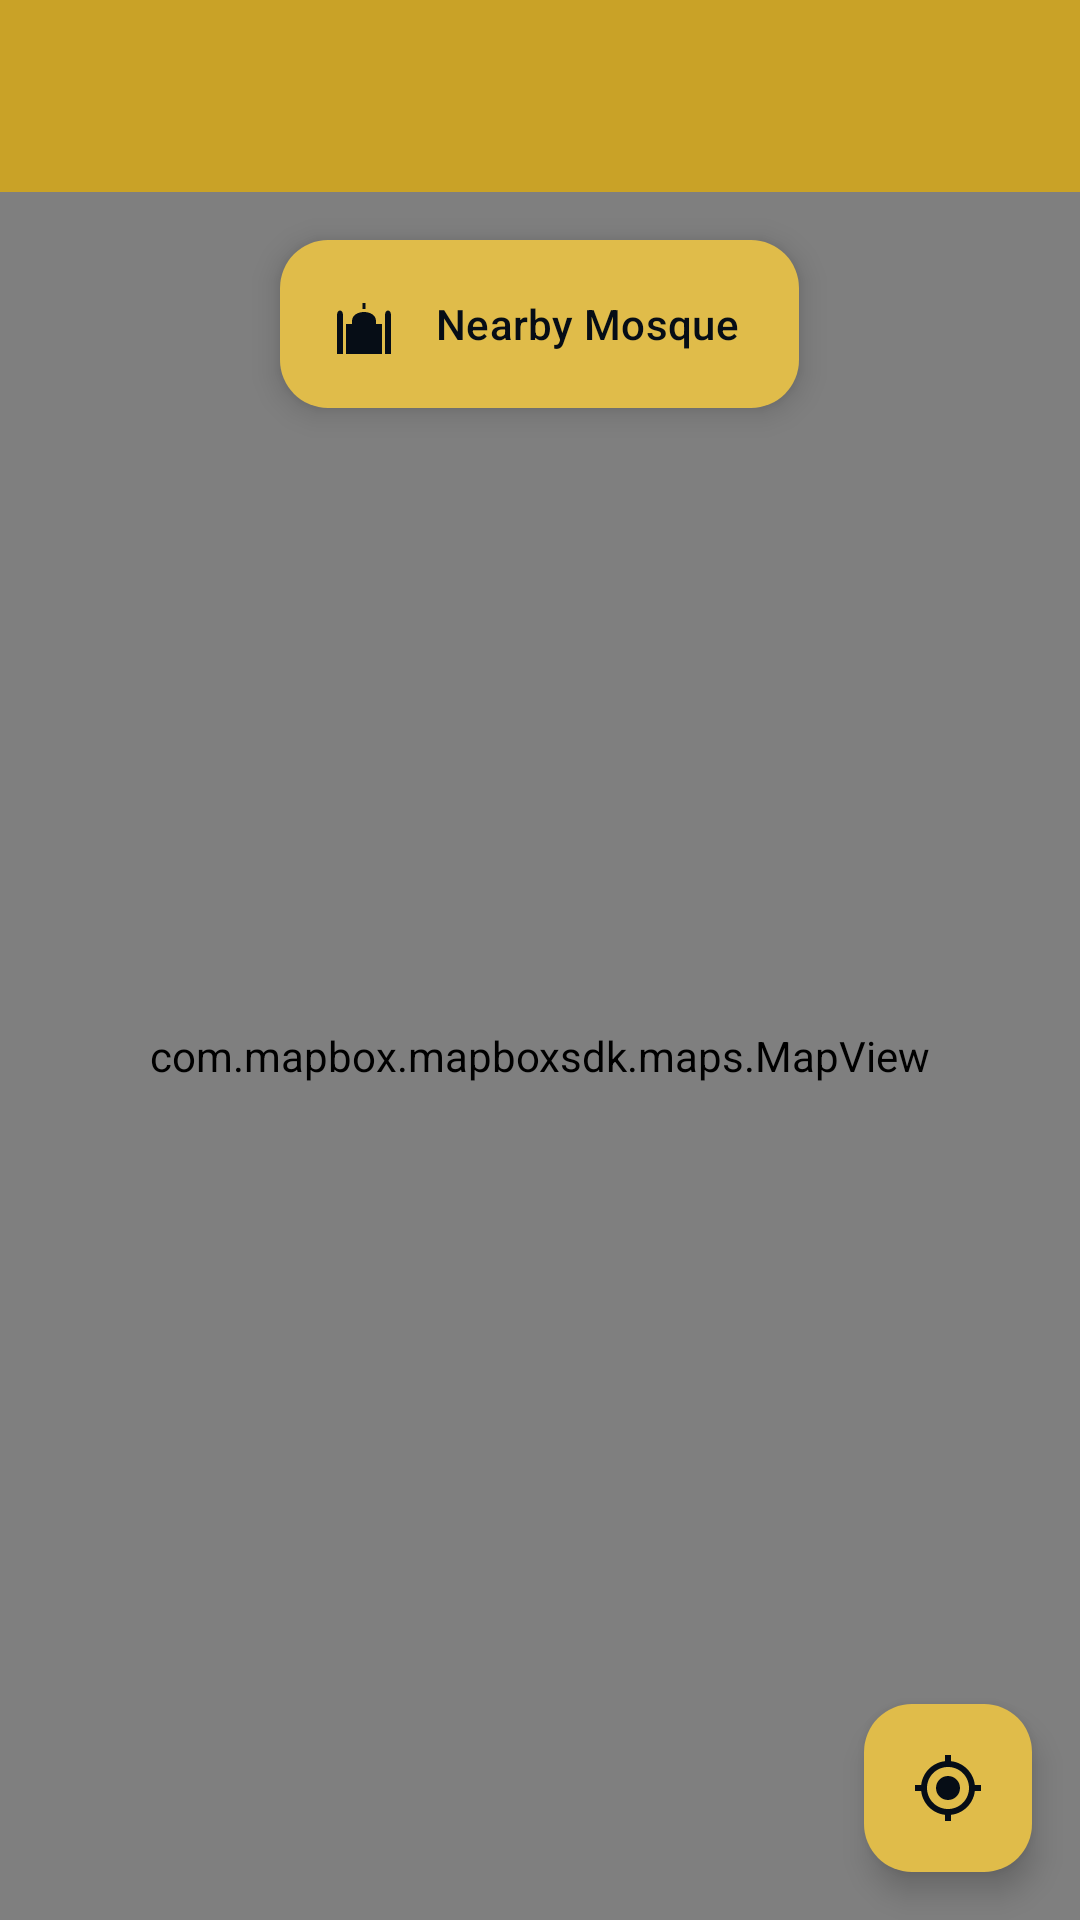

Named icons in this screenshot (1080×1920) and their bounding boxes, (x1, y1, x2, y2):
My Location: (864, 1704, 1032, 1872)
